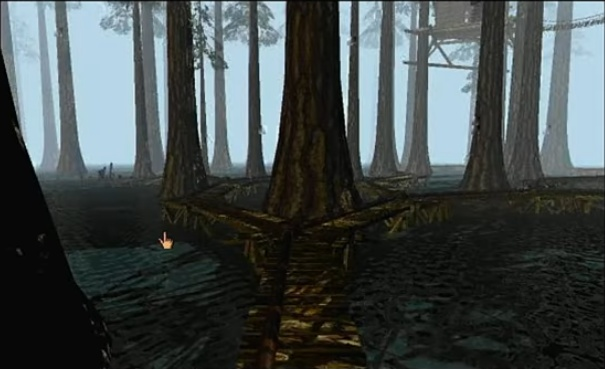Pointer: (155, 228, 177, 251)
